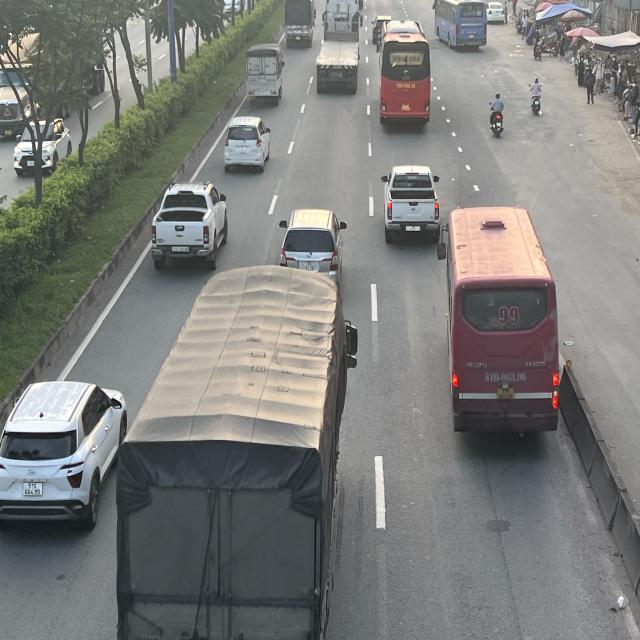car: (1, 379, 126, 527), (151, 180, 229, 264), (279, 207, 346, 274), (381, 165, 440, 239), (224, 114, 272, 170)
coach: (439, 206, 560, 435), (379, 18, 431, 123), (433, 0, 488, 48)
container: (315, 0, 364, 97)
truck: (117, 265, 357, 640), (246, 44, 286, 104), (283, 0, 315, 44)
